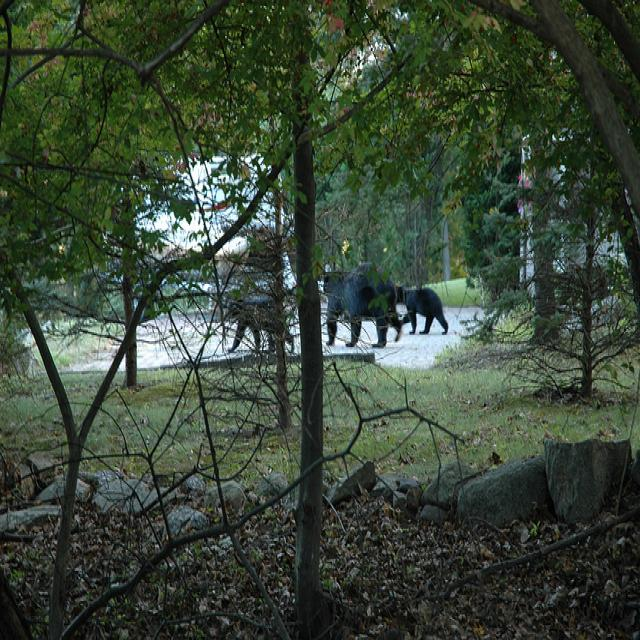Bear: (322, 250, 404, 346), (218, 278, 304, 354)
